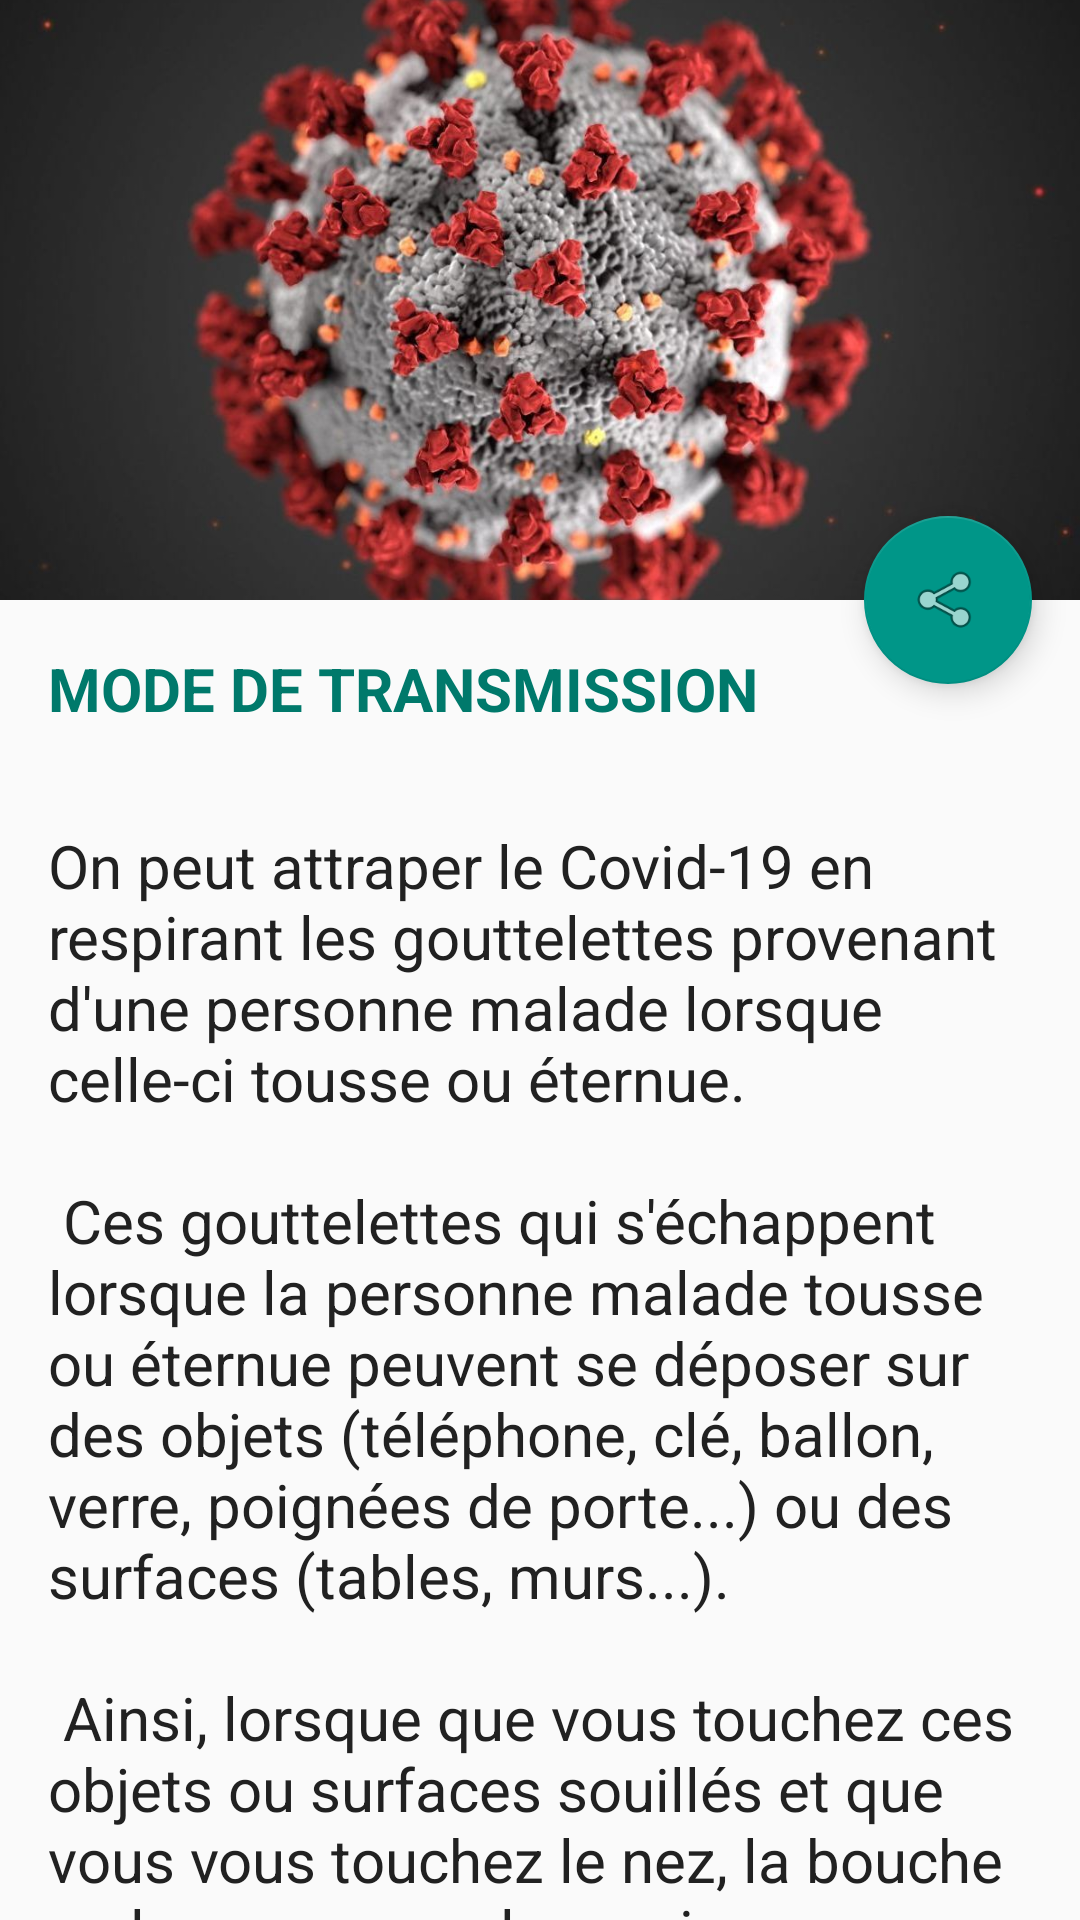

Icon click points for this 1080px×1920px phone screenshot, format point (x, y):
share: point (948, 600)
